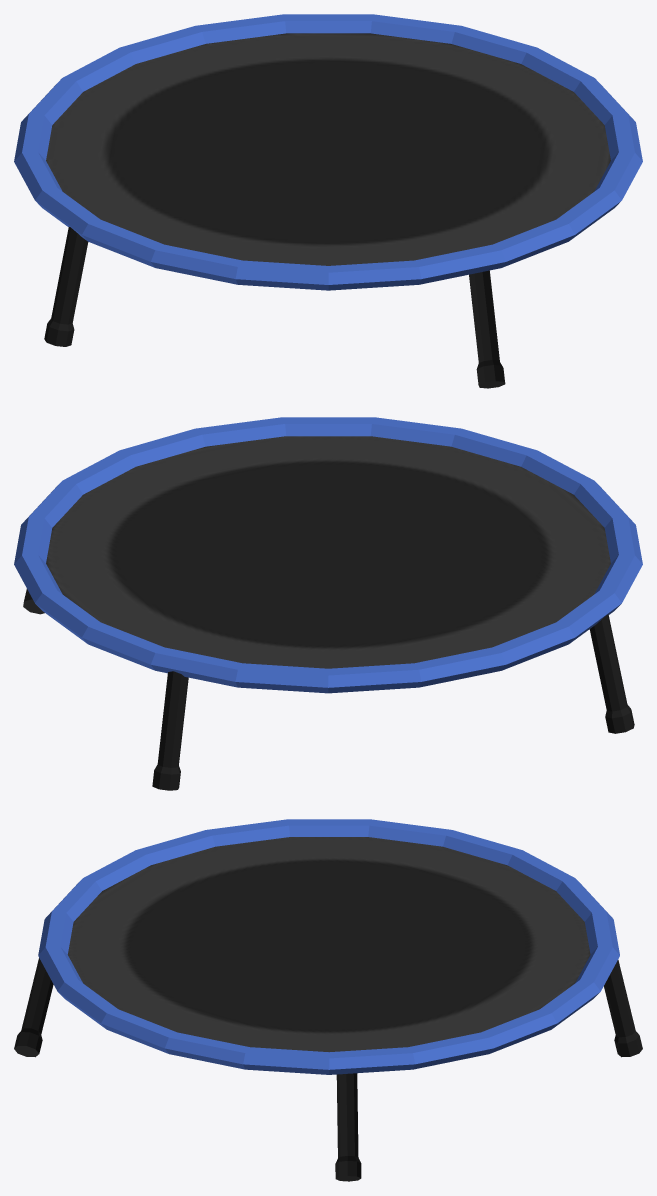
Rendered from low_poly_trampoline.glb.
3 renders of one model, top to bottom at view 1: azimuth 30°, elevation 25°; view 2: azimuth 150°, elevation 25°; view 3: azimuth 270°, elevation 25°, orthographic. The views are drawn at different scales.
Visible parts, largest first — view 1: Cylinder.002; view 2: Cylinder.002; view 3: Cylinder.002.
Part boxes in pixels (left/top/right/bottom): Cylinder.002: left=14, top=14, right=642, bottom=388; Cylinder.002: left=14, top=417, right=642, bottom=790; Cylinder.002: left=14, top=819, right=642, bottom=1181.
Bounding box in the file's own units: 7.18 × 1.46 × 7.2.
1 material, 1 textured.
